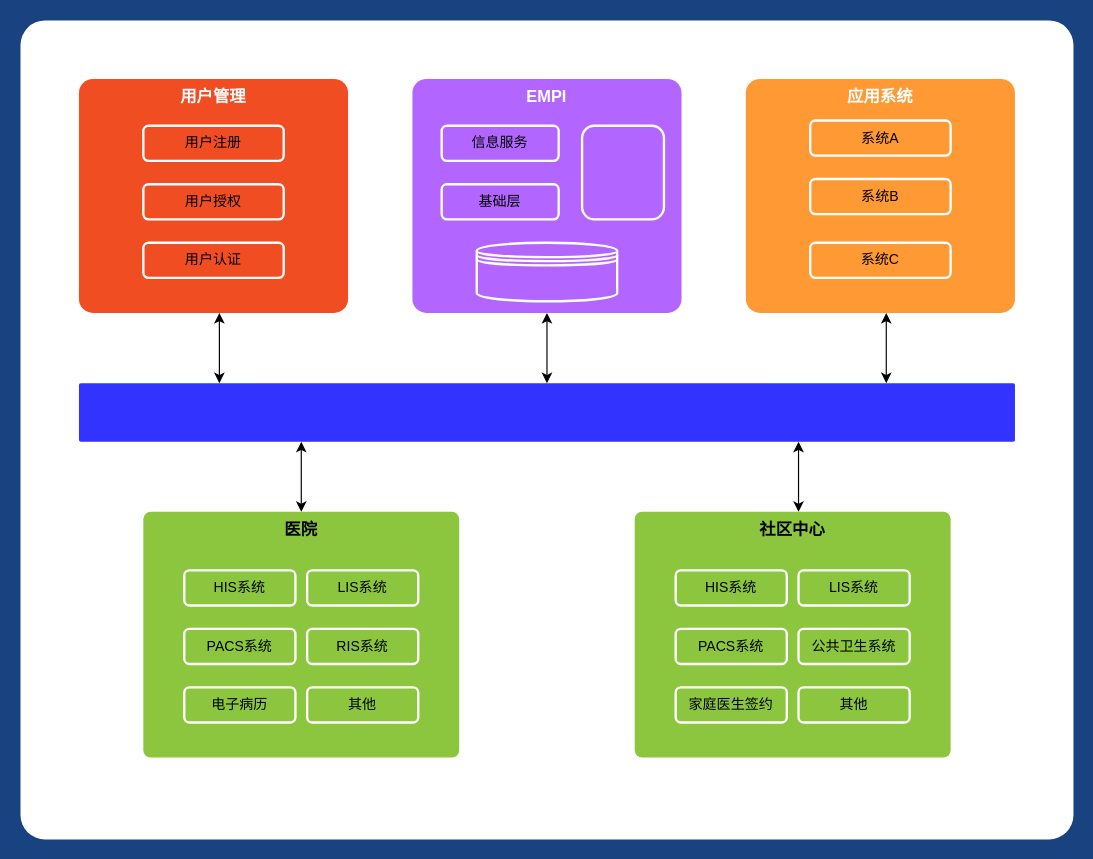
The diagram is 1093 pixels wide and 859 high, and some of its shapes have lost their labels. The centre of each missing label's shape, as x and y in pixels:
"基于FHIR的集成平台" goes at pixel 546 412.
"核心数据集" goes at pixel 546 271.
"电子健康卡主索引" goes at pixel 622 172.
